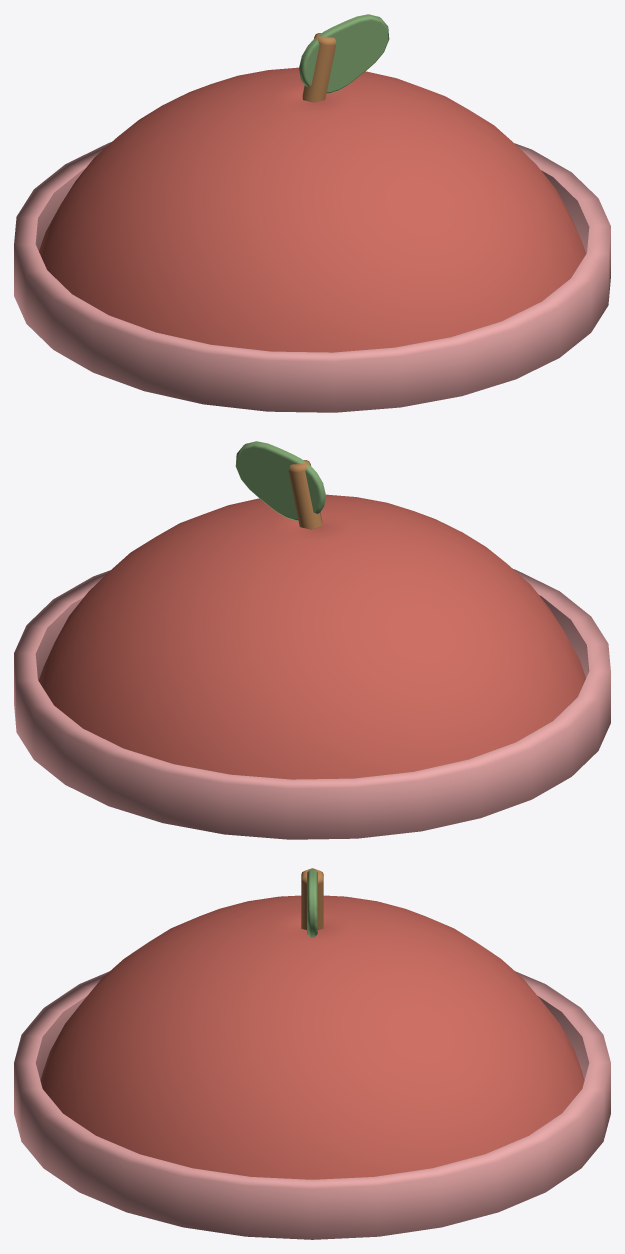
File: apple_hat.glb
The picture shows the model from 3 angles, top to bottom: view 1: azimuth 30°, elevation 25°; view 2: azimuth 150°, elevation 25°; view 3: azimuth 270°, elevation 25°; orthographic projection.
Visible parts, largest first — view 1: apple_hat_Head; view 2: apple_hat_Head; view 3: apple_hat_Head.
Part boxes in pixels (<box>): apple_hat_Head: <box>14,14,610,412</box>; apple_hat_Head: <box>14,441,610,839</box>; apple_hat_Head: <box>14,868,610,1239</box>.
Bounding box in the file's own units: 0.744 × 0.3545 × 0.744.
